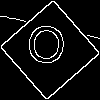O: (25, 25, 67, 74)
